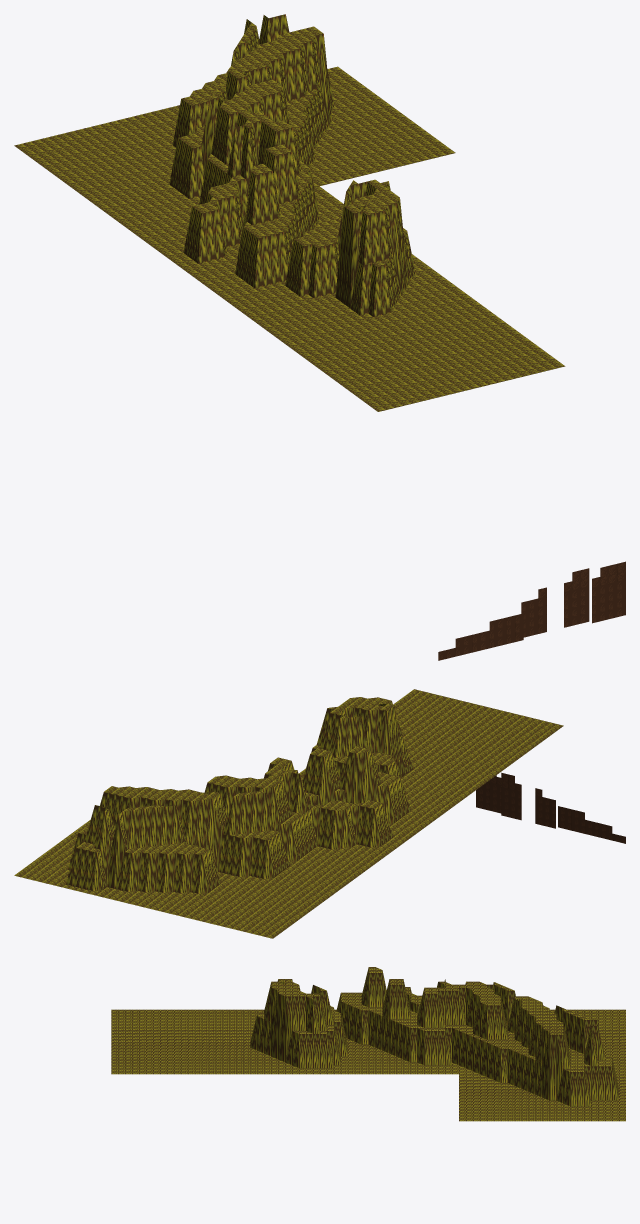
File: FuckingHills2.obj
3 views of the same model, one above another, from view 1: azimuth 30°, elevation 25°; view 2: azimuth 150°, elevation 25°; view 3: azimuth 270°, elevation 25° (orthographic). The views are drawn at different scales.
Visible parts, largest first — view 1: Default; view 2: Default; view 3: Default.
Boxes of the visible parts, box(x1,y1,x2,y2) form: Default: box(14, 14, 625, 660); Default: box(14, 689, 625, 938); Default: box(111, 967, 625, 1121).
Bounding box in the file's own units: 39 × 32 × 88.
1 material, 1 textured.
